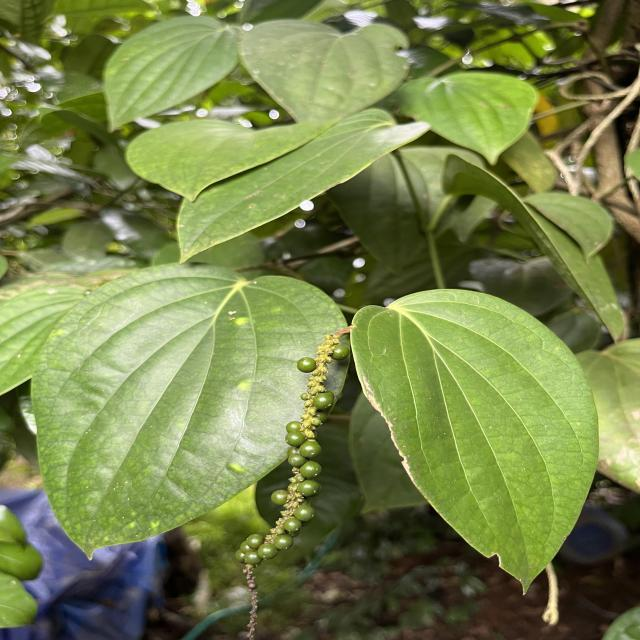Piper nigrum: (29, 260, 351, 562), (350, 286, 604, 598)
